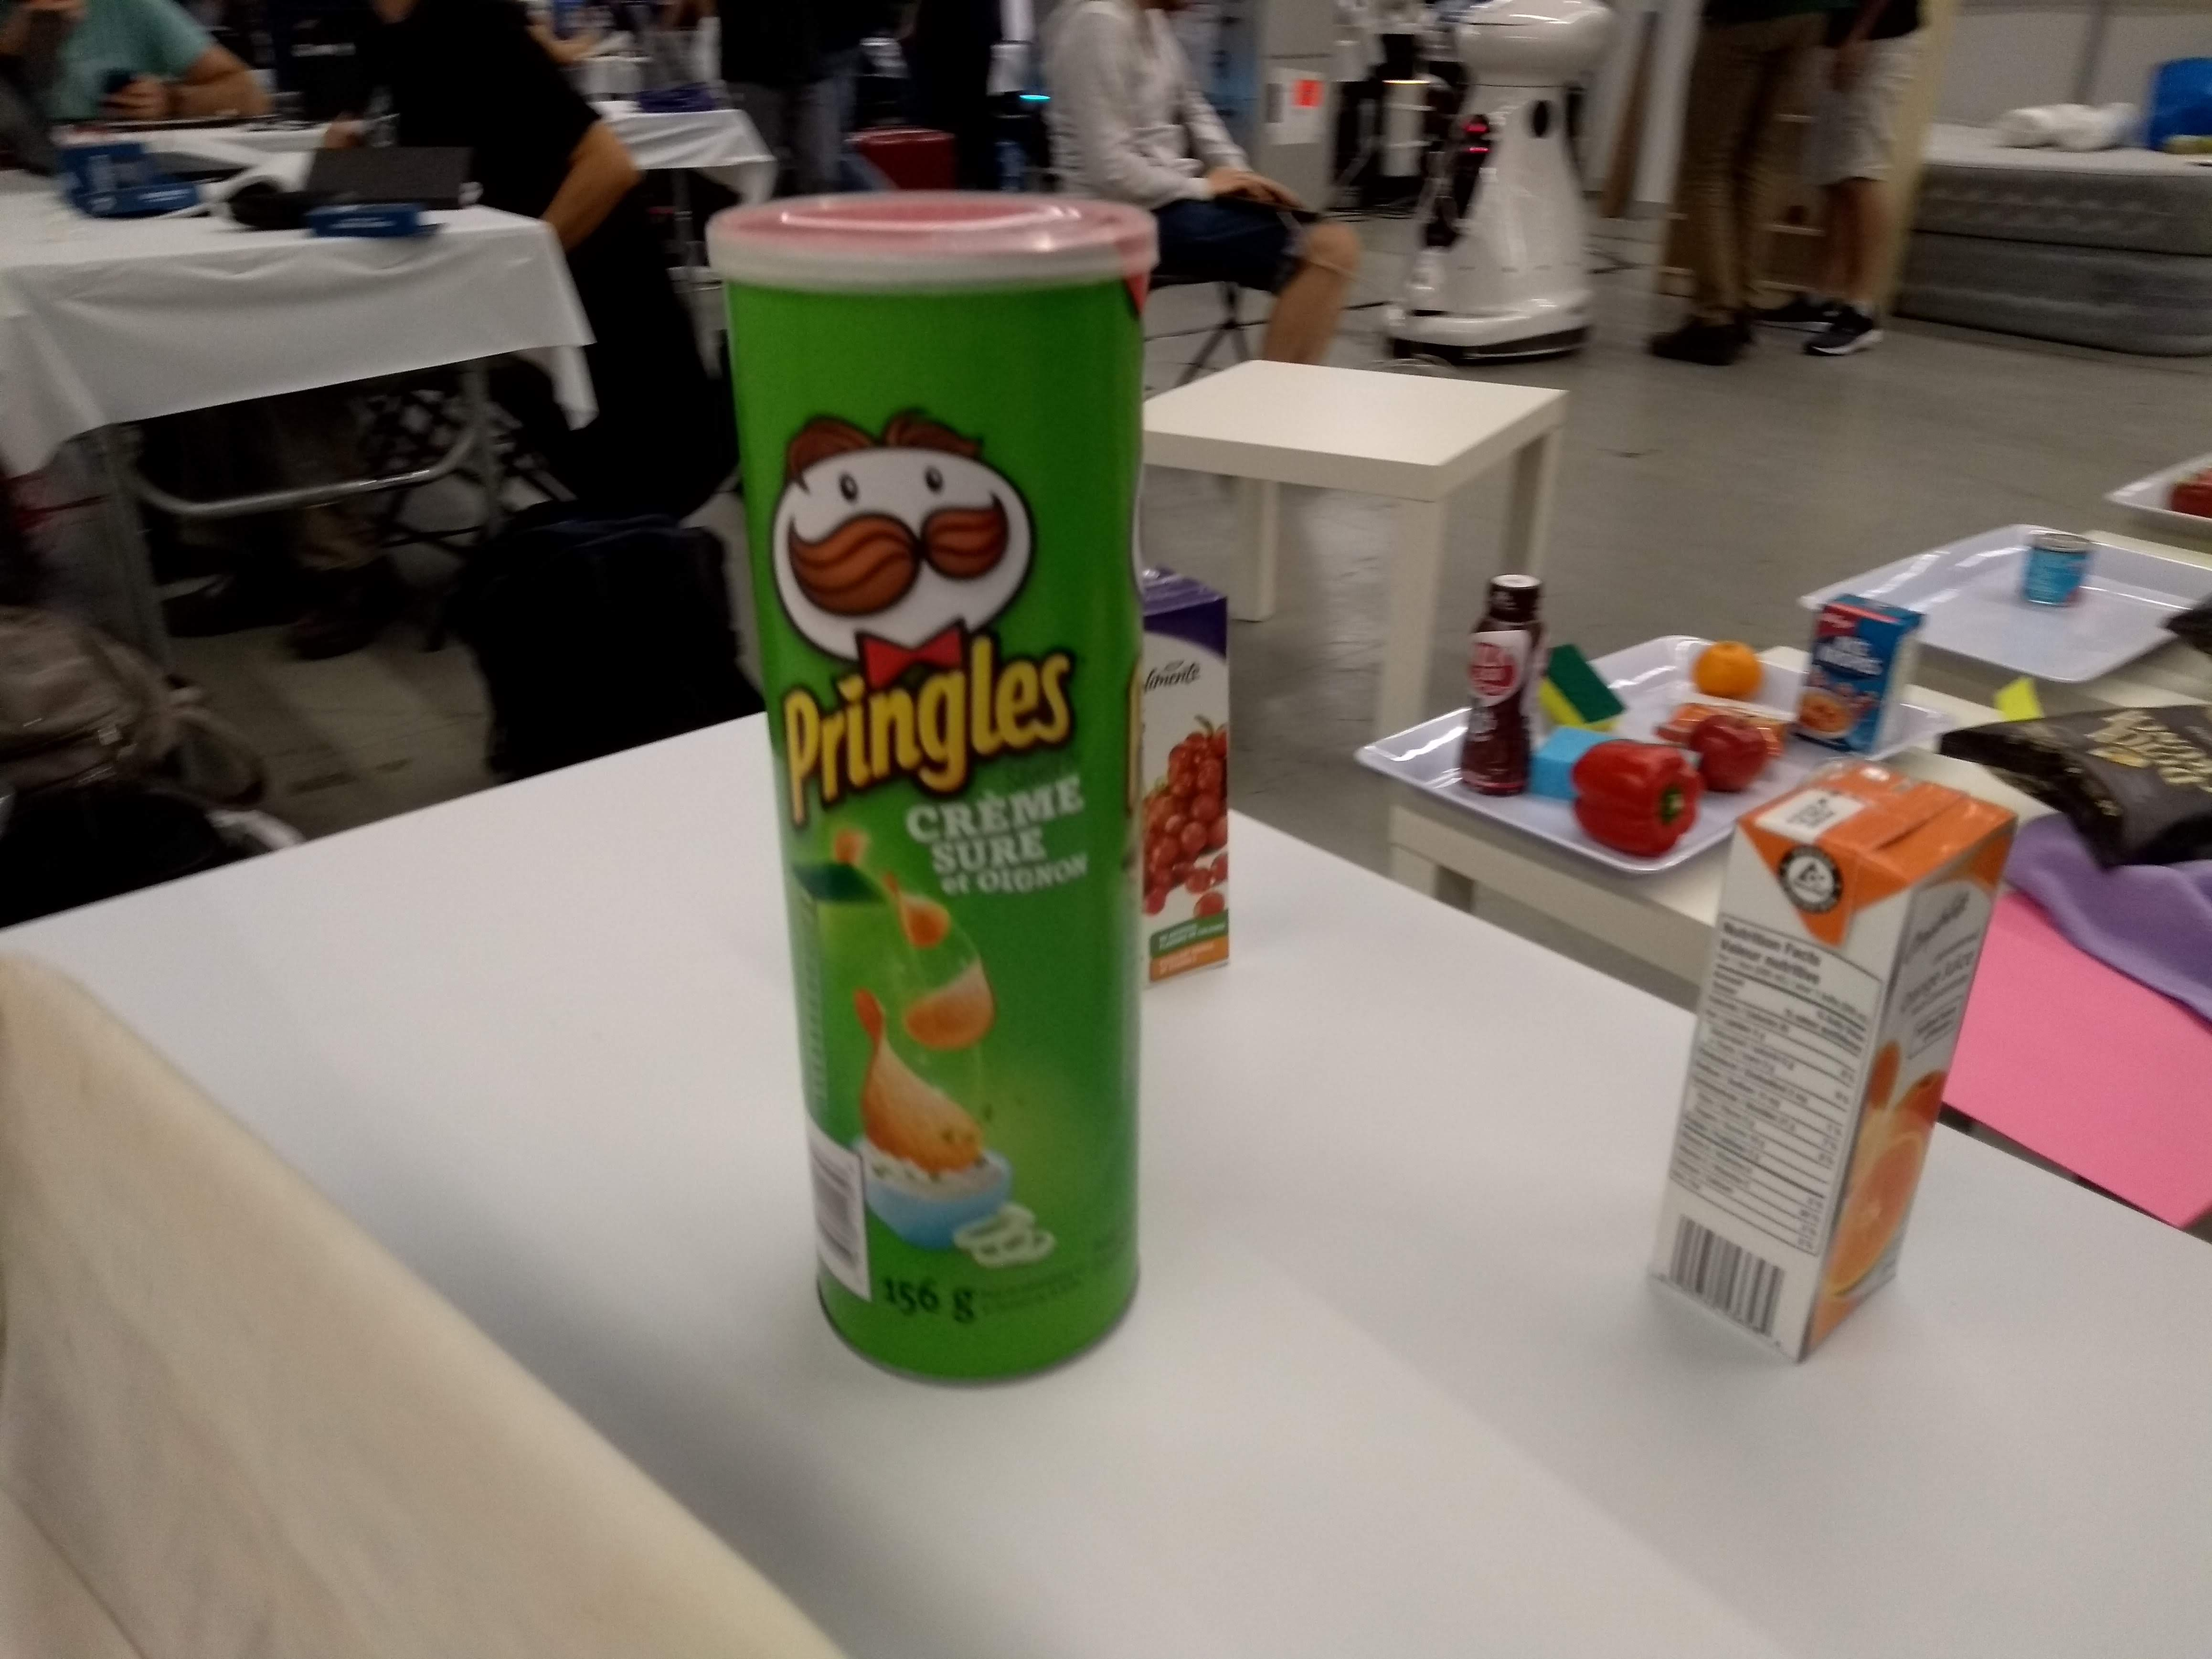cereal: (1792, 589, 1935, 756)
chocolate_drink: (1454, 570, 1561, 803)
orange: (1688, 634, 1764, 706)
orange_juice: (1658, 751, 2026, 1375)
paprika: (1569, 730, 1705, 868)
pringles: (698, 173, 1169, 1396)
sausages: (2012, 525, 2107, 615)
scrubby: (1534, 638, 1632, 730)
